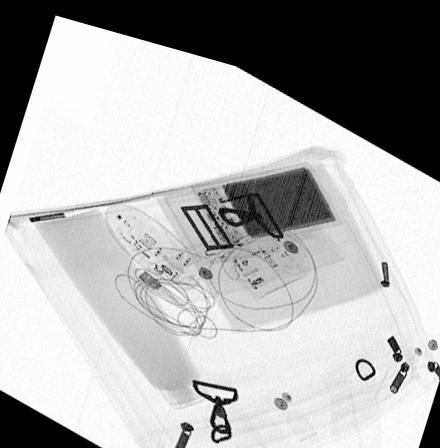Powerbank: (191, 143, 342, 234)
